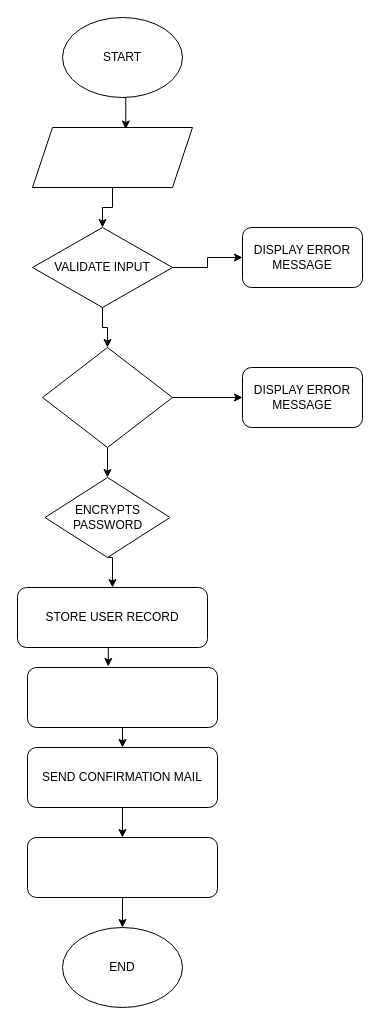
Image size: 380x1025. Some labels were removed from this diagram. Each missing label, with the box of its shape:
CHECK FOR EXISTING MAIL: (42, 346, 172, 448)
GENERATE AUTH TOKEN: (26, 666, 218, 728)
INPUT USER DETAILS: (32, 126, 192, 188)
REGISTRATION SUCCESSFUL (REDIRECT TO LOGIN): (26, 836, 218, 898)
